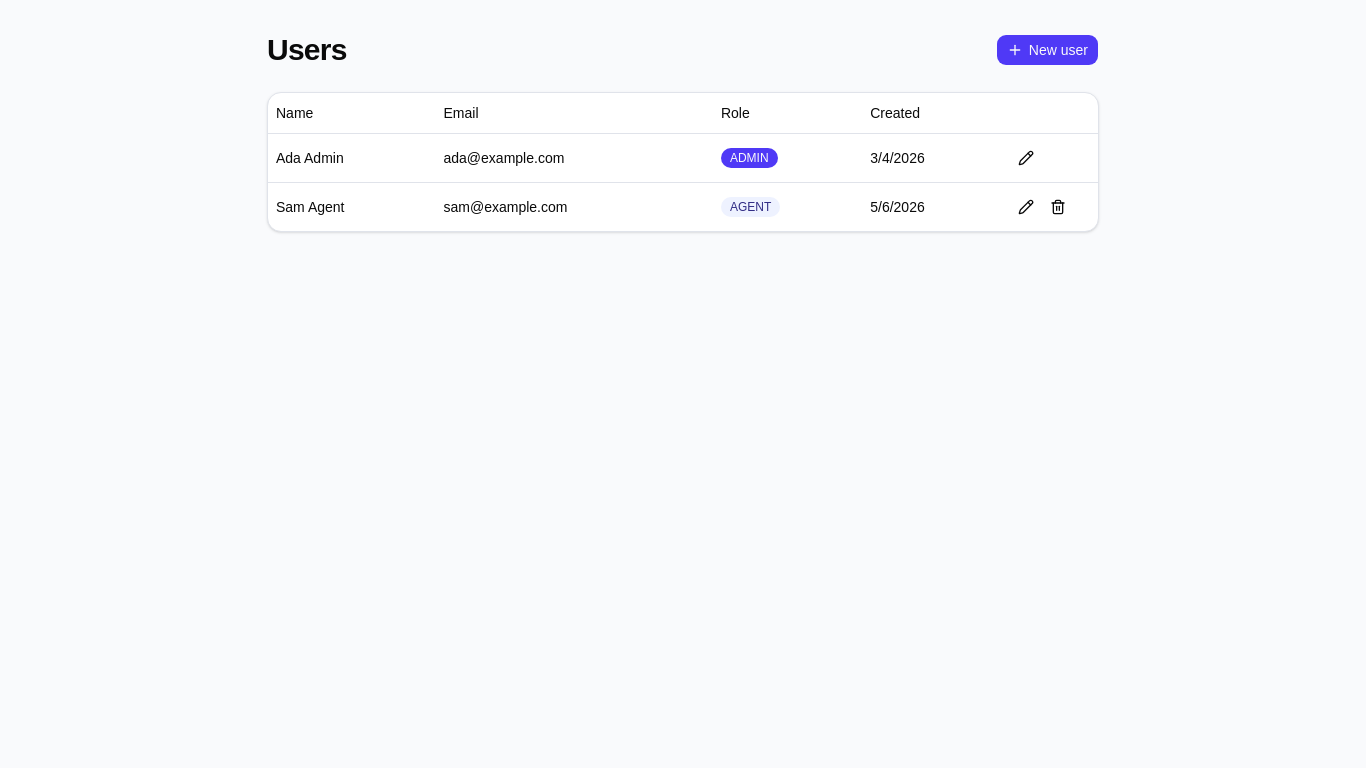
Test: UsersPage › edit user › opens a dialog populated with that user and closes on Escape
Step 1. Click the button named "Edit Sam Agent" → x=1026, y=206, box [1010,190,1042,222]
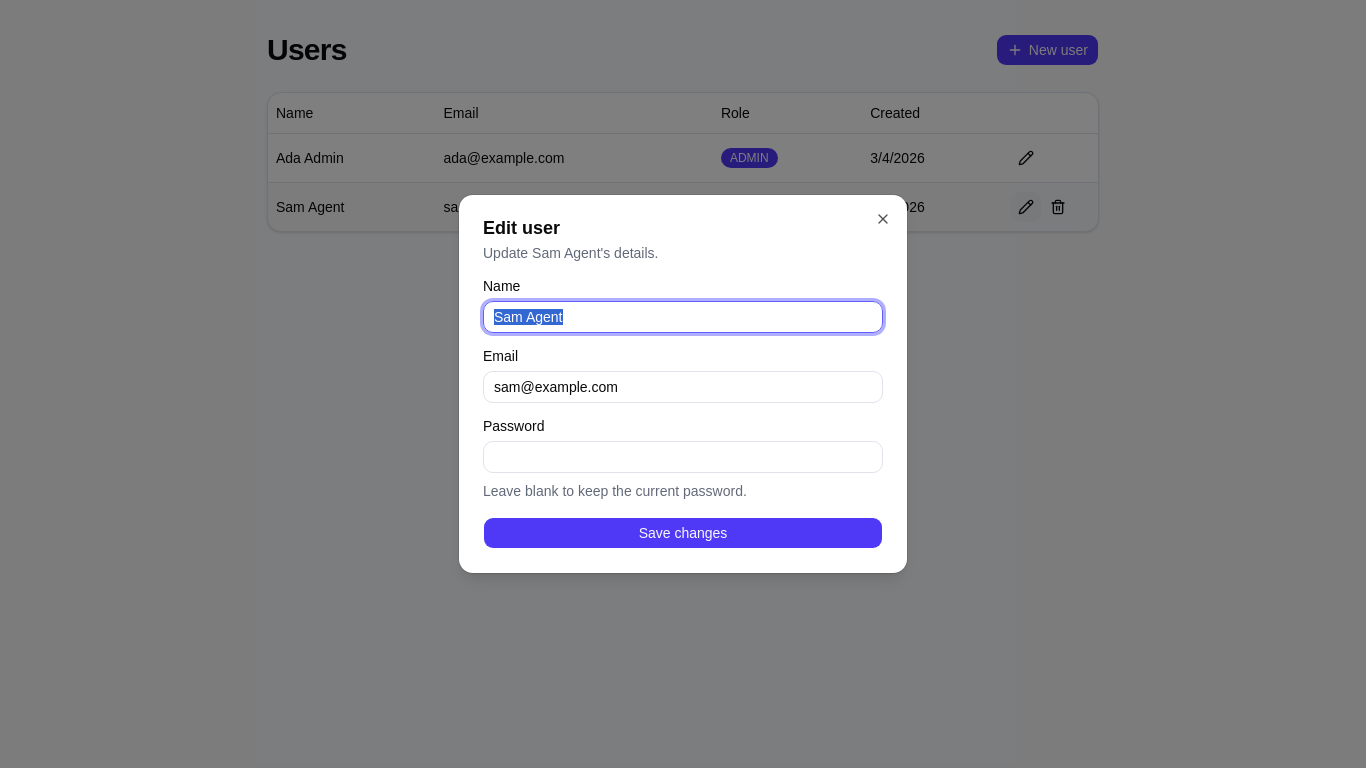
Check: the password field labelled "Password" is empty, box [483,441,883,473]
Check: the field labelled "Name" holds "Sam Agent", box [483,301,883,333]
Check: the field labelled "Email" holds "sam@example.com", box [483,371,883,403]
Step 2. Press Escape in the dialog, box [459,195,907,573]
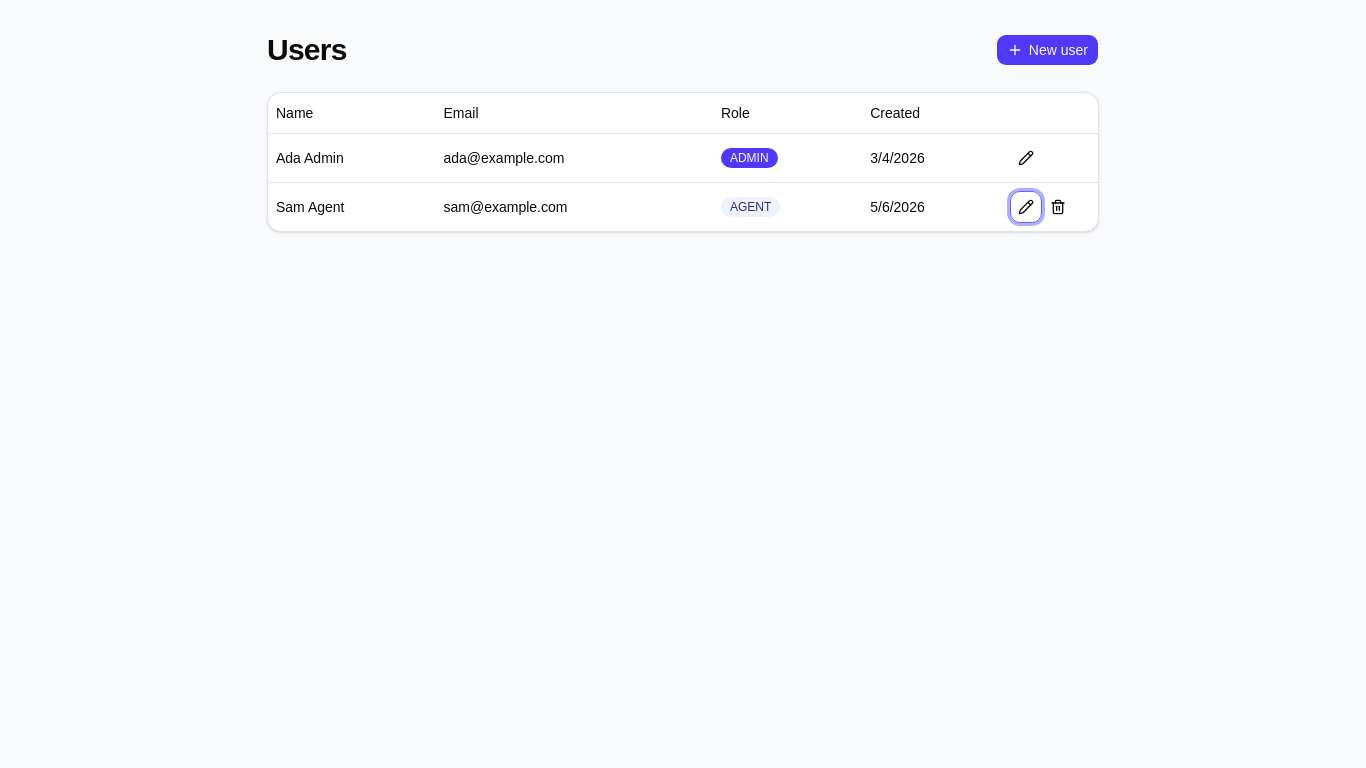
Check: the dialog is gone
